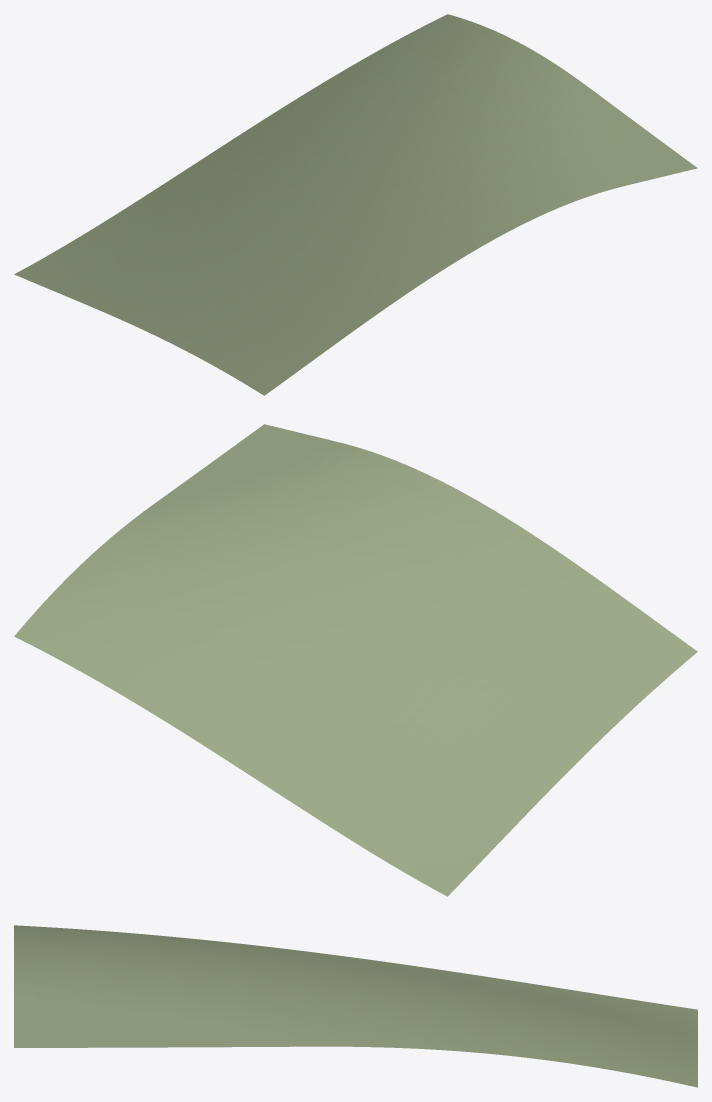
The model's file is desert-24-19.glb.
3 views of the same model, one above another, from view 1: azimuth 30°, elevation 25°; view 2: azimuth 150°, elevation 25°; view 3: azimuth 270°, elevation 25° (orthographic). The views are drawn at different scales.
Parts seen in each view (by area): view 1: desert-24-19; view 2: desert-24-19; view 3: desert-24-19.
Part boxes in pixels (x1,y1,x2,y2): desert-24-19: [14, 14, 697, 395]; desert-24-19: [14, 424, 697, 896]; desert-24-19: [14, 925, 697, 1087].
Bounding box in the file's own units: 512 × 208 × 512.
